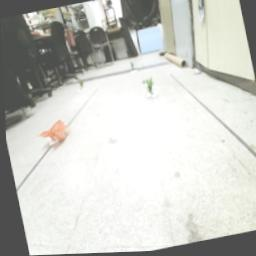herb: (141, 76, 157, 102), (129, 63, 138, 73), (77, 81, 85, 92)
wild: (34, 119, 70, 148)
